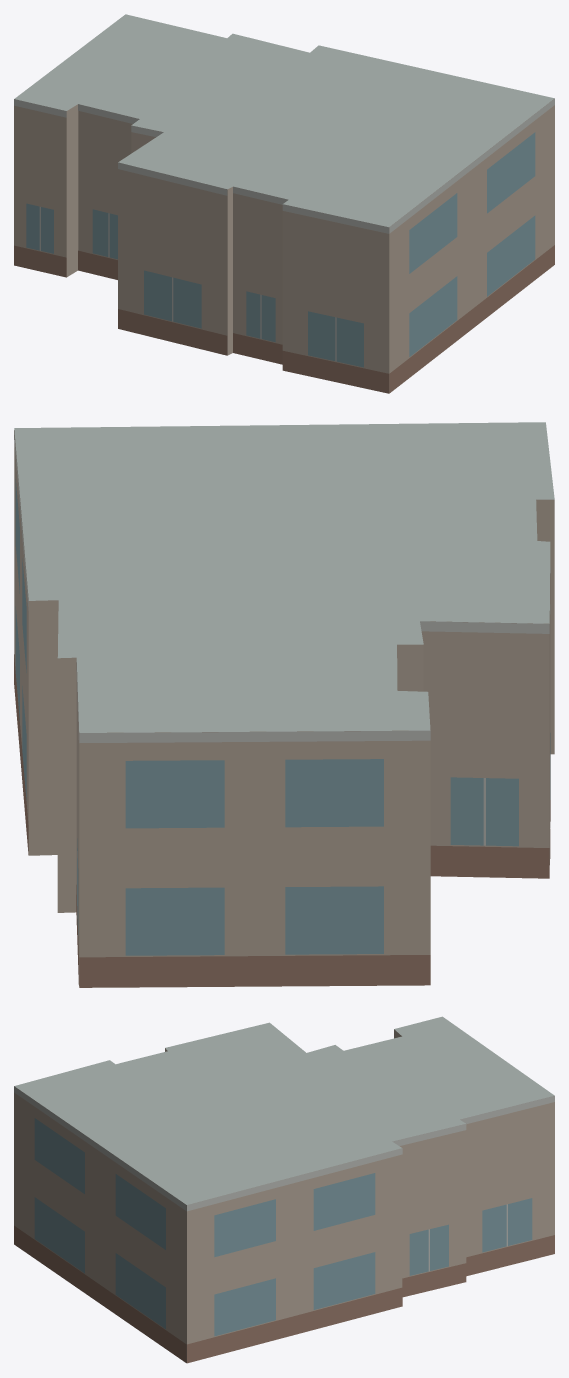
The model's file is survey-upis-32878749.glb.
3 renders of one model, top to bottom at view 1: azimuth 30°, elevation 25°; view 2: azimuth 150°, elevation 25°; view 3: azimuth 270°, elevation 25°, orthographic. The views are drawn at different scales.
Visible parts, largest first — view 1: survey-upis-32878749.tmp; view 2: survey-upis-32878749.tmp; view 3: survey-upis-32878749.tmp.
Part boxes in pixels (x1,y1,x2,y2): survey-upis-32878749.tmp: (14,14,554,393); survey-upis-32878749.tmp: (14,422,554,987); survey-upis-32878749.tmp: (14,1016,554,1363).
Bounding box in the file's own units: 15.6 × 6.1 × 18.9.
